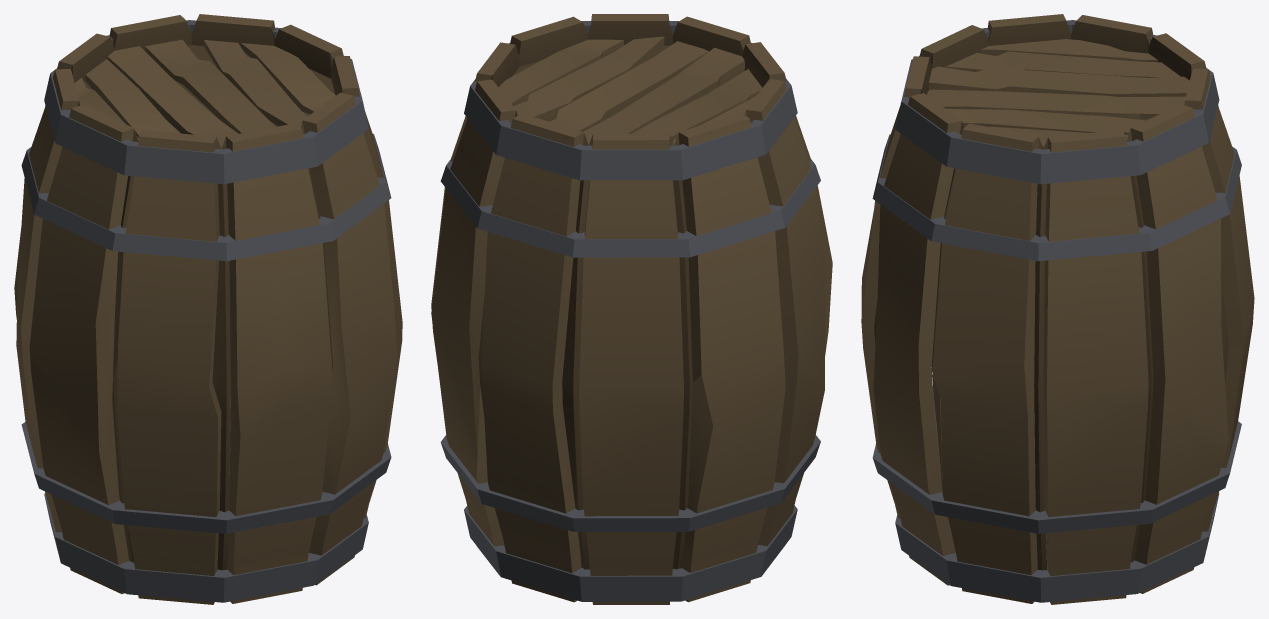
File: ruins.glb
3 views of the same model, side by side, from view 1: azimuth 30°, elevation 25°; view 2: azimuth 150°, elevation 25°; view 3: azimuth 270°, elevation 25° (orthographic).
Parts seen in each view (by area): view 1: Barrel; view 2: Barrel; view 3: Barrel.
Part boxes in pixels (<box>): Barrel: <box>14,14,402,604</box>; Barrel: <box>431,14,832,604</box>; Barrel: <box>861,14,1254,604</box>.
Bounding box in the file's own units: 0.8314 × 1.07 × 0.8242.
